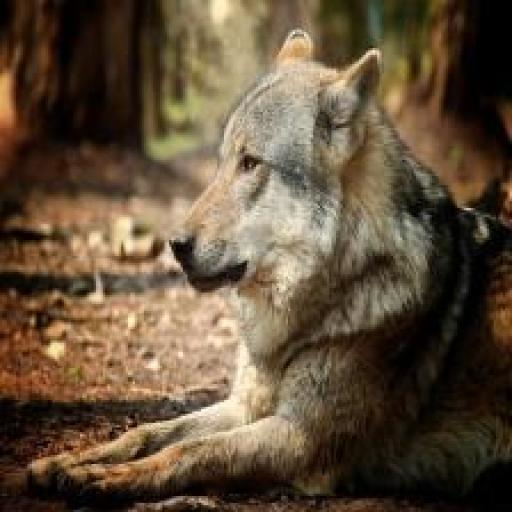wolf: (18, 27, 512, 512)
